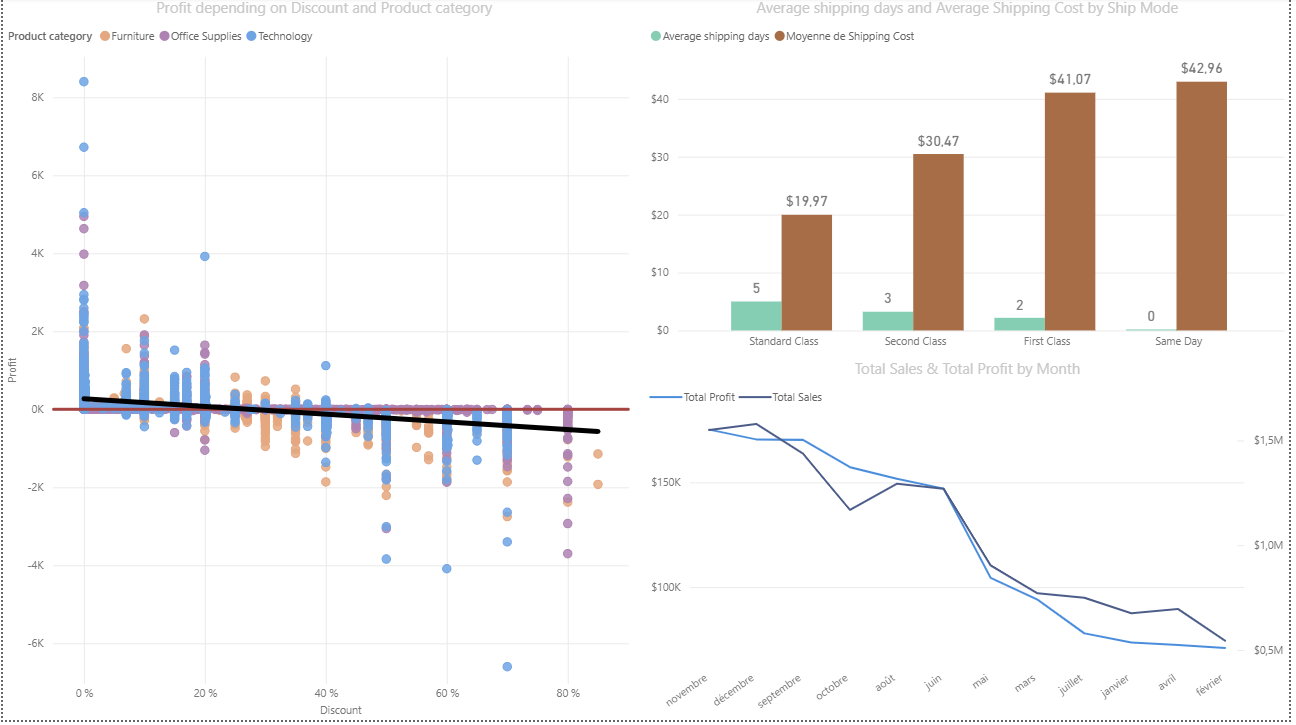

The dashboard page shown, as its layout file describes it:
{"tool":"powerbi","page":{"name":"Operations & Logistics","canvas":[1280,720],"ordinal":3},"visuals":[{"type":"clusteredColumnChart","title":"Average shipping days and Average Shipping Cost by Ship Mode","fields":{"Y":["DAX Measures.Average shipping days","Avg(Fact_Table.Shipping Cost)"],"Category":["Shipmode_Dimension_Table.Ship Mode"]},"box":[639.4,0,640.6,359.5],"z":1000},{"type":"scatterChart","title":"Profit depending on Discount and Product category","fields":{"Y":["Fact_Table.Profit"],"X":["Avg(Fact_Table.Discount)"],"Series":["Product_Dimension_Table.Category"]},"box":[0,0,639.4,720.3],"z":2000},{"type":"lineChart","title":"Total Sales & Total Profit by Month","fields":{"Category":["Date_Dimension_Table.Month (Name)"],"Y":["DAX Measures.Total Profit"],"Y2":["DAX Measures.Total Sales"]},"box":[639.4,359.5,640.6,360.7],"z":3000}]}

Visuals, with their boxes in screenshot pixels (x1, y1, x2, y2), scaled from the page's 1280x720 canvas onto the 1296x725 screenshot:
"Average shipping days and Average Shipping Cost by Ship Mode" clusteredColumnChart: x1=647 y1=0 x2=1295 y2=362
"Profit depending on Discount and Product category" scatterChart: x1=0 y1=0 x2=647 y2=724
"Total Sales & Total Profit by Month" lineChart: x1=647 y1=362 x2=1295 y2=724
